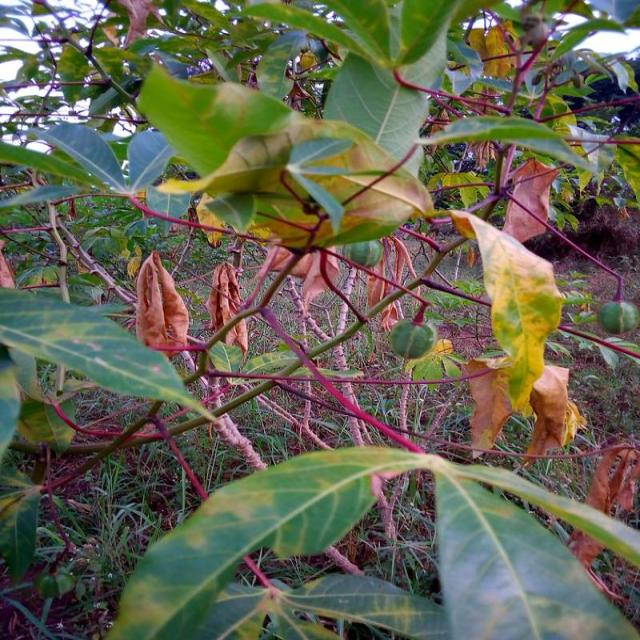cassava leaf: (104, 444, 422, 638), (135, 59, 435, 250), (0, 285, 207, 417), (451, 208, 564, 417)
